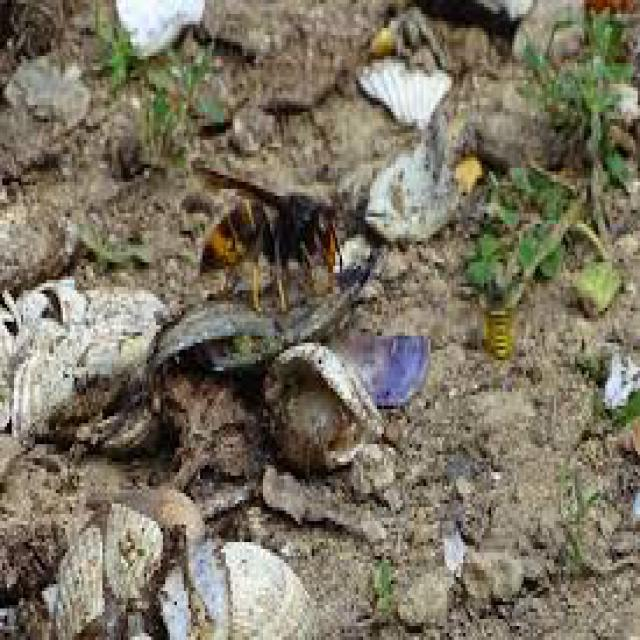Vespa Velutina: (183, 142, 390, 325)
